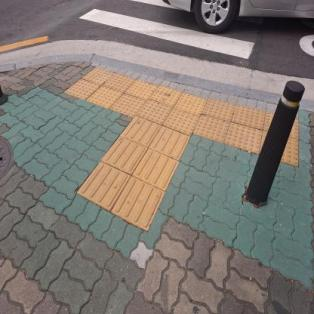Podoctatil: (61, 58, 301, 238)
